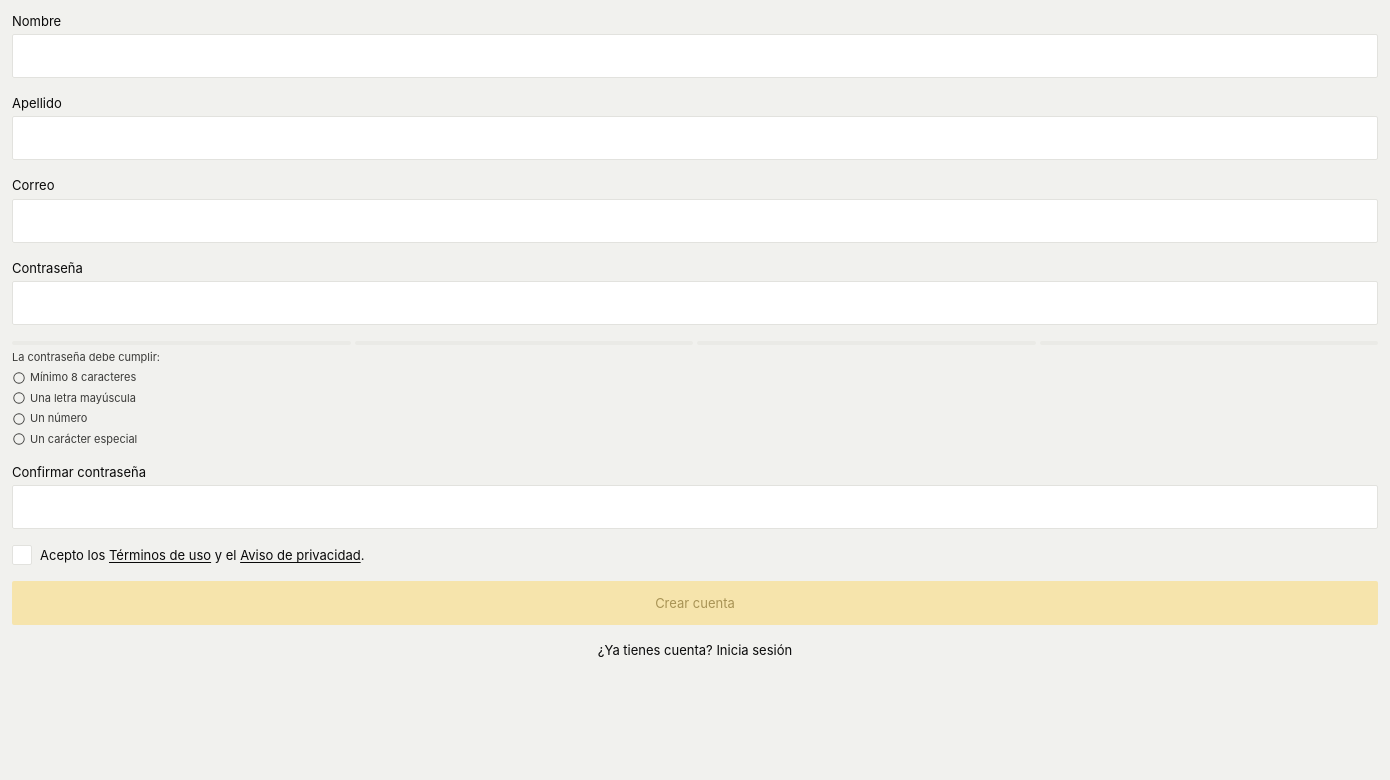
Scenario: CustomerRegisterForm › shows the verification screen after a successful registration
Type "Ada" into the field labelled "Nombre". click: (695, 56)
box: [12, 34, 1378, 78]
Type "Lovelace" into the field labelled "Apellido". click: (695, 138)
box: [12, 116, 1378, 160]
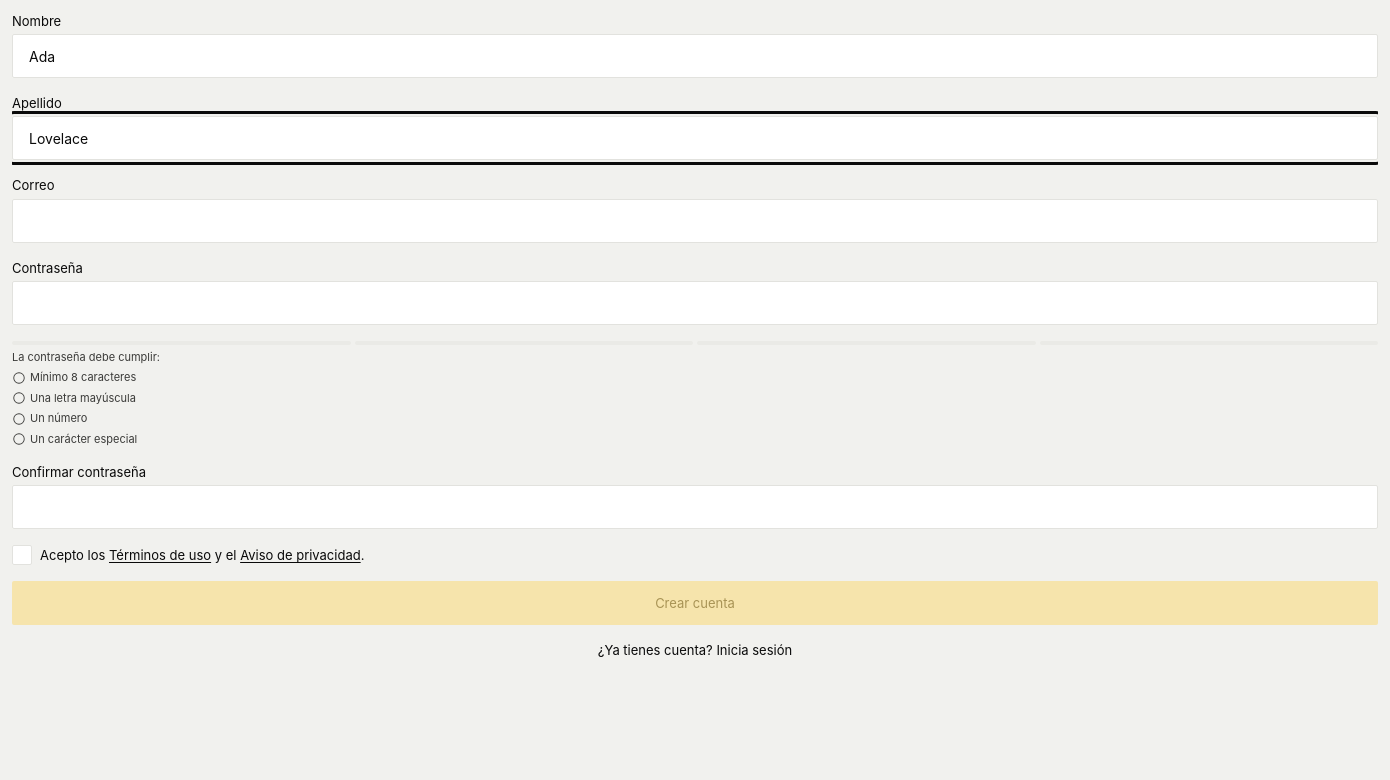
Type "ada@example.com" into the field labelled "Correo". click: (695, 221)
box: [12, 199, 1378, 243]
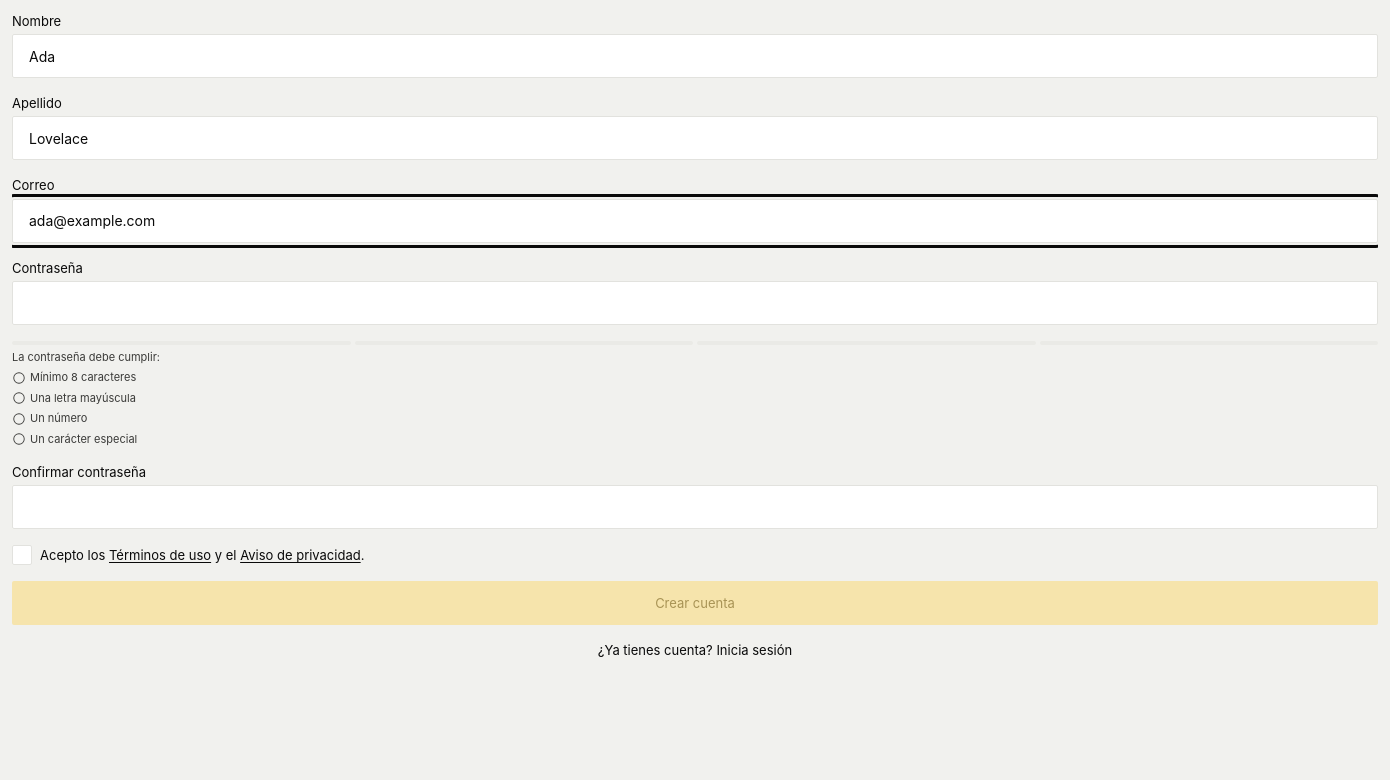
Type "Super-Secreta1" into the password field labelled "Contraseña". click: (695, 303)
box: [12, 281, 1378, 325]
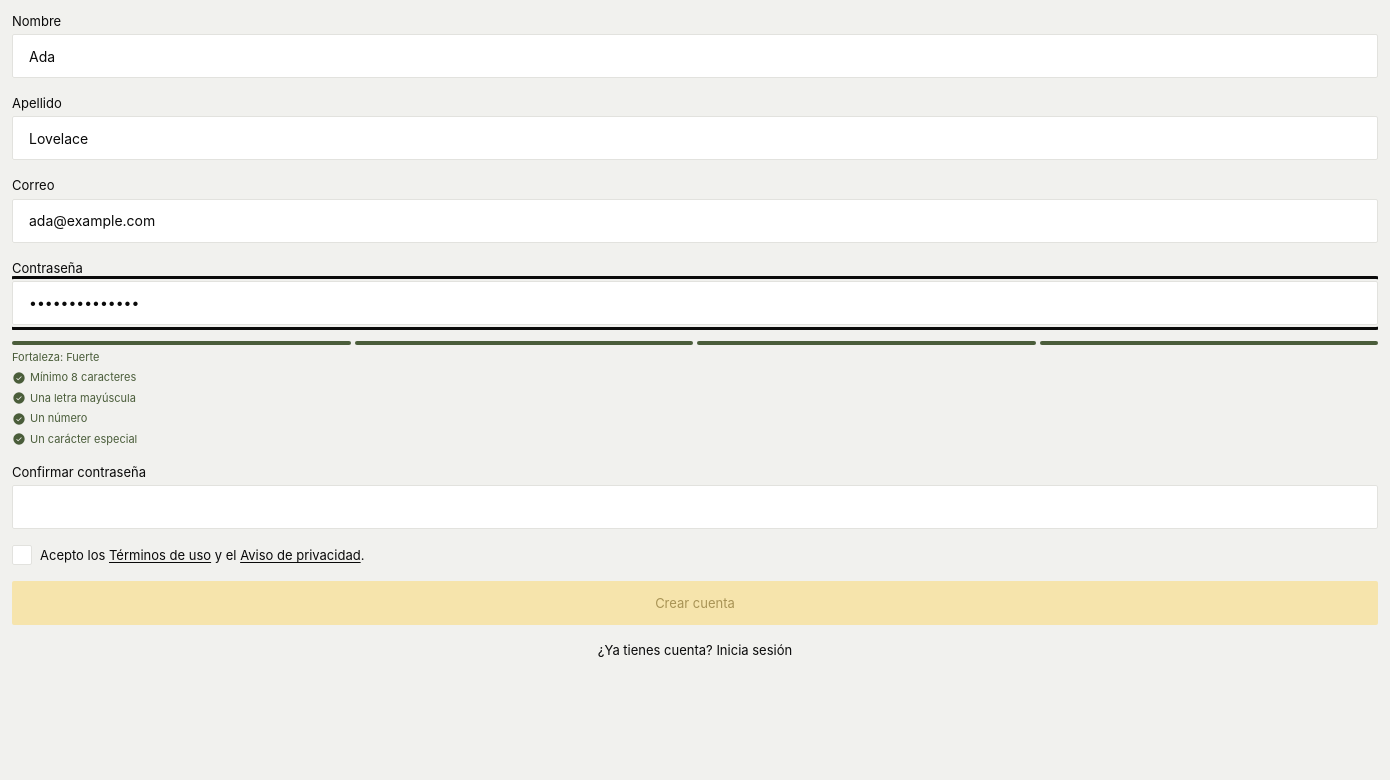
Type "Super-Secreta1" into the password field labelled "Confirmar contraseña". click: (695, 507)
box: [12, 485, 1378, 529]
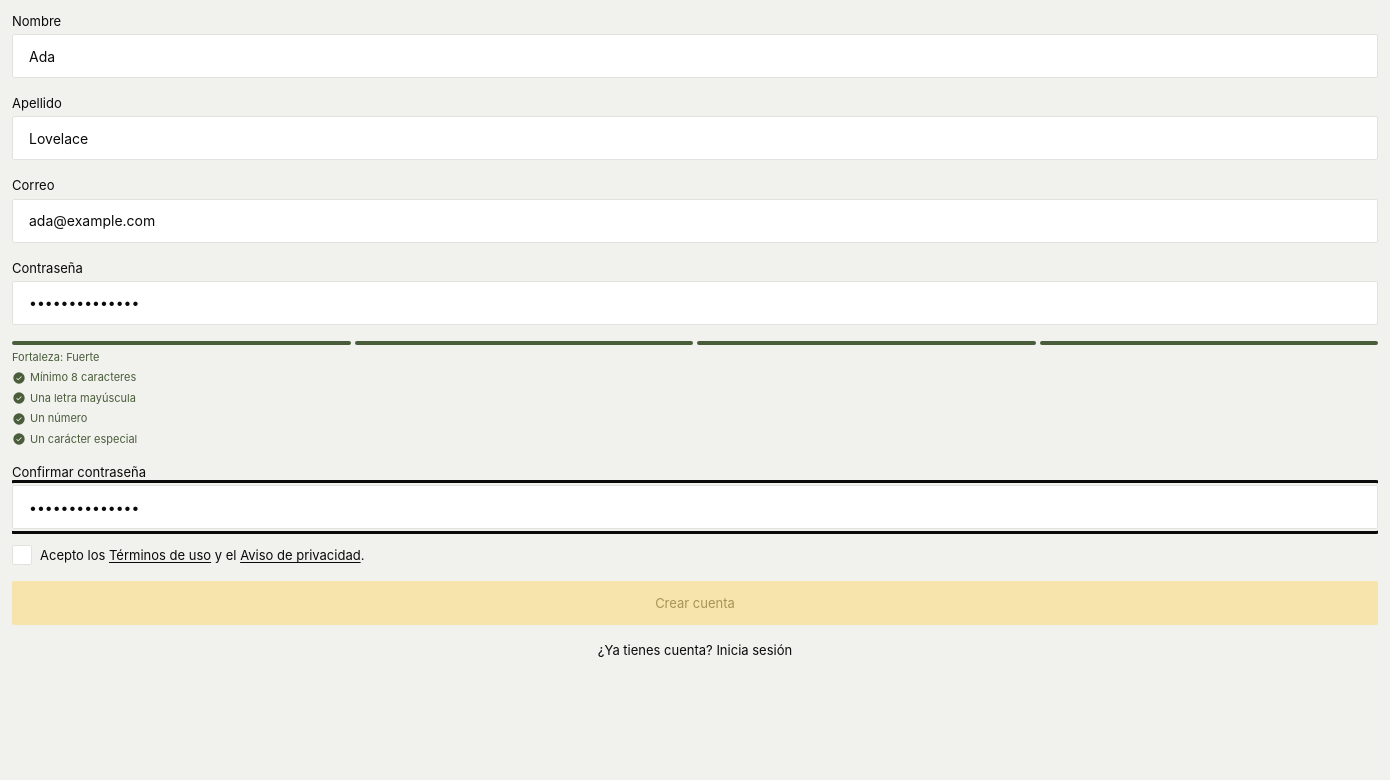
Click the checkbox labelled "Acepto los Términos de uso y el Aviso de privacidad .". click: (188, 555)
box: [12, 545, 364, 565]
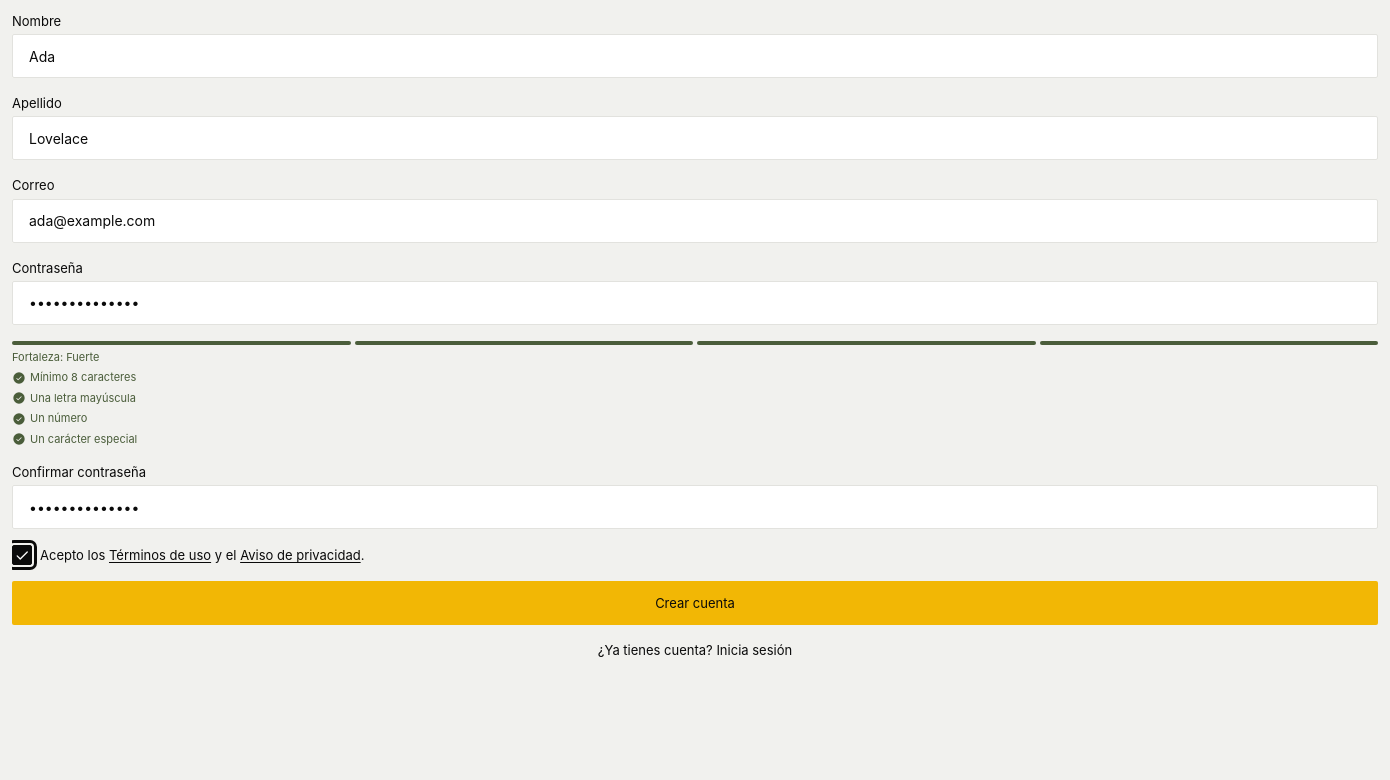
Click the button named "Crear cuenta". click: (695, 603)
box: [12, 581, 1378, 625]
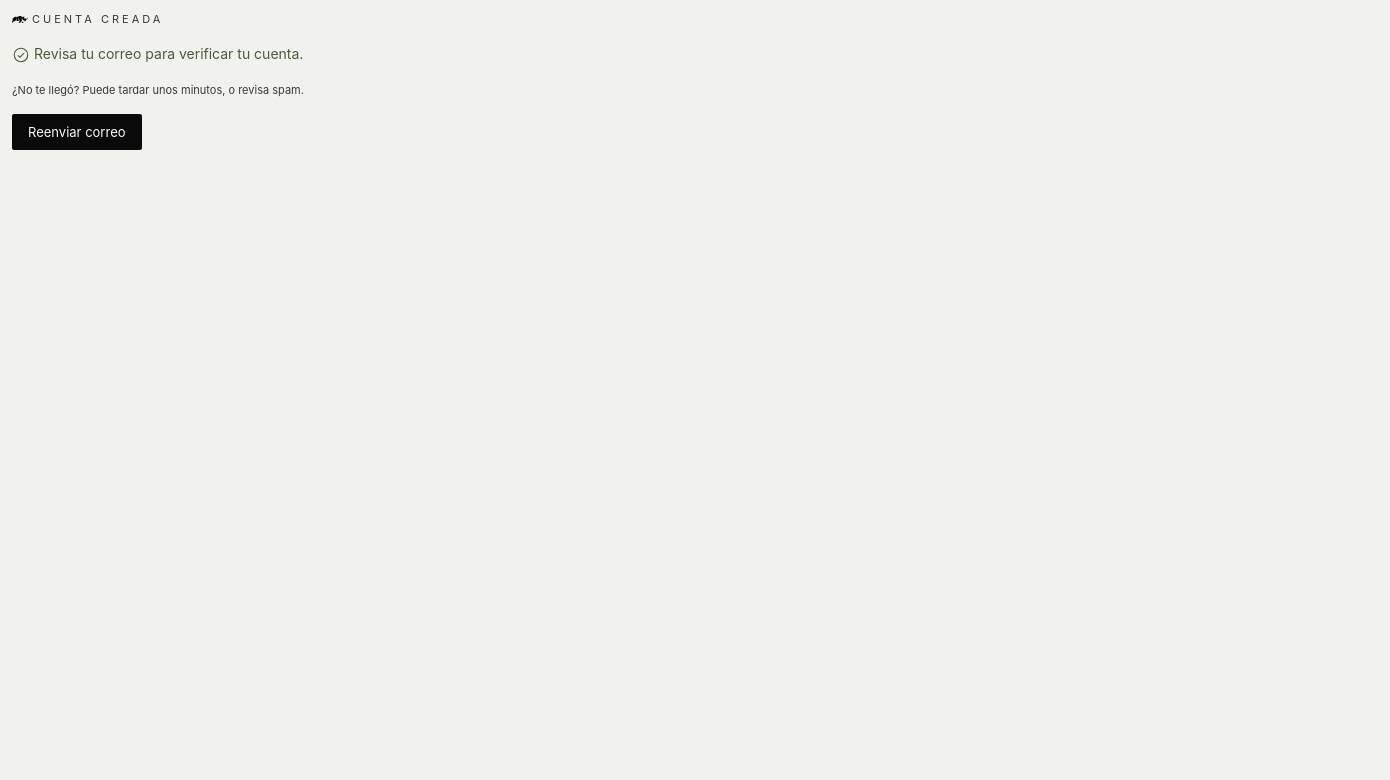
Expected: the text "Revisa tu correo para verificar tu cuenta." is shown, [12, 43, 303, 66]
